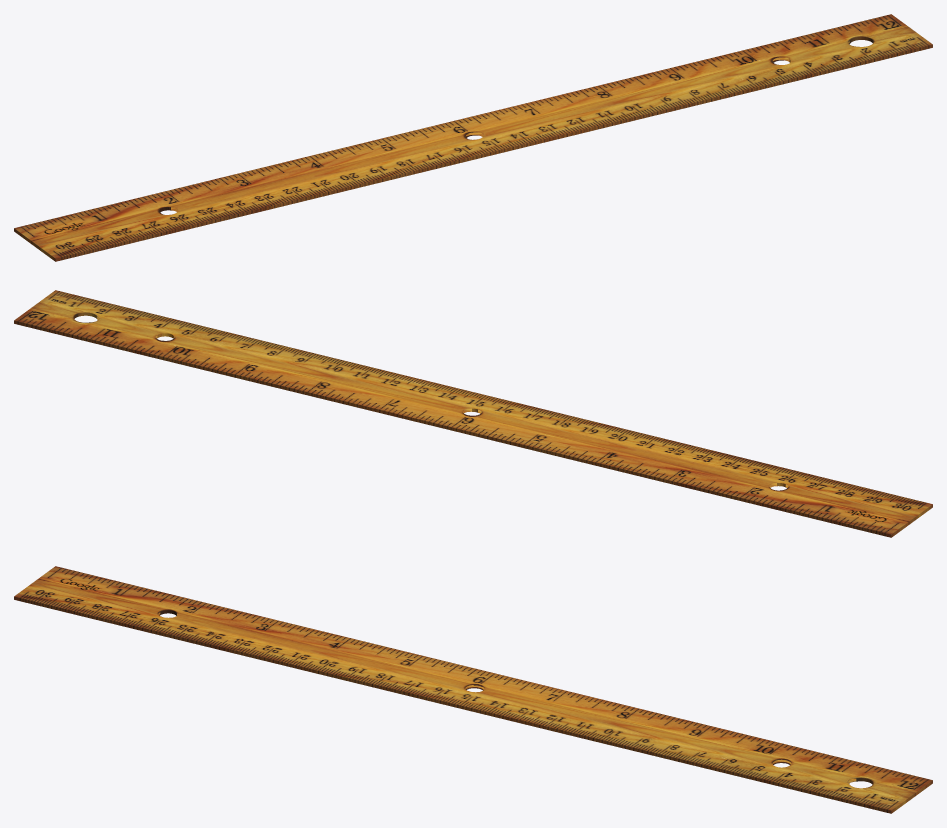
Rendered from ruler.fbx.
3 renders of one model, top to bottom at view 1: azimuth 30°, elevation 25°; view 2: azimuth 150°, elevation 25°; view 3: azimuth 330°, elevation 25°, orthographic.
Parts seen in each view (by area): view 1: ruler1; view 2: ruler1; view 3: ruler1.
Boxes of the visible parts, x1,y1,x2,y2 form: ruler1: (14,14,932,261); ruler1: (14,290,932,537); ruler1: (14,566,932,813).
Bounding box in the file's own units: 31 × 0.1099 × 2.54.
